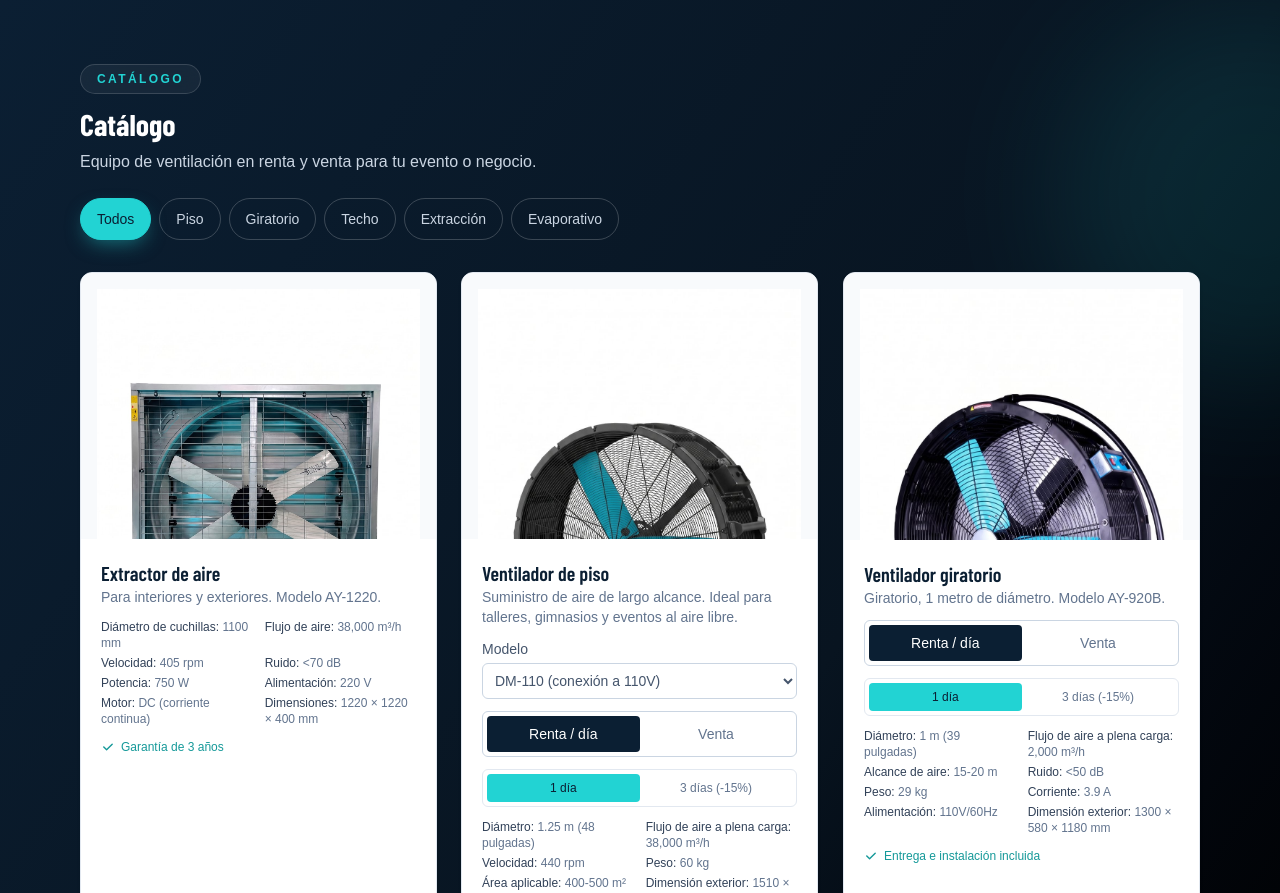
Test case: Catalogo › filtra por categoría al hacer click en un chip
The width and height of the screenshot is (1280, 893).
Step 1. Click the button "Techo" → (360, 219), box [324,198,396,240]
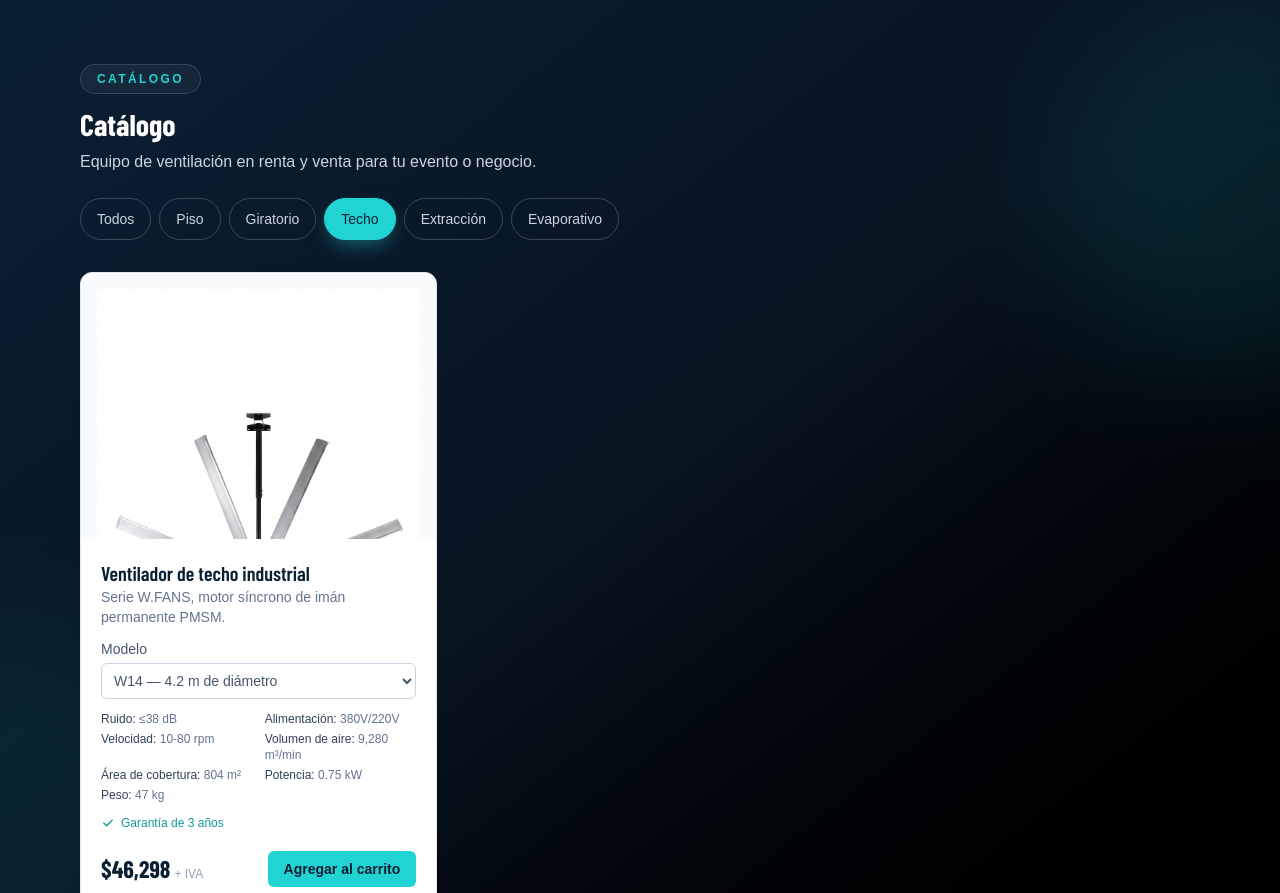
Expected: the heading "Ventilador de techo industrial" is shown, [101,562,310,586]
Now the heading "Extractor de aire" is gone
